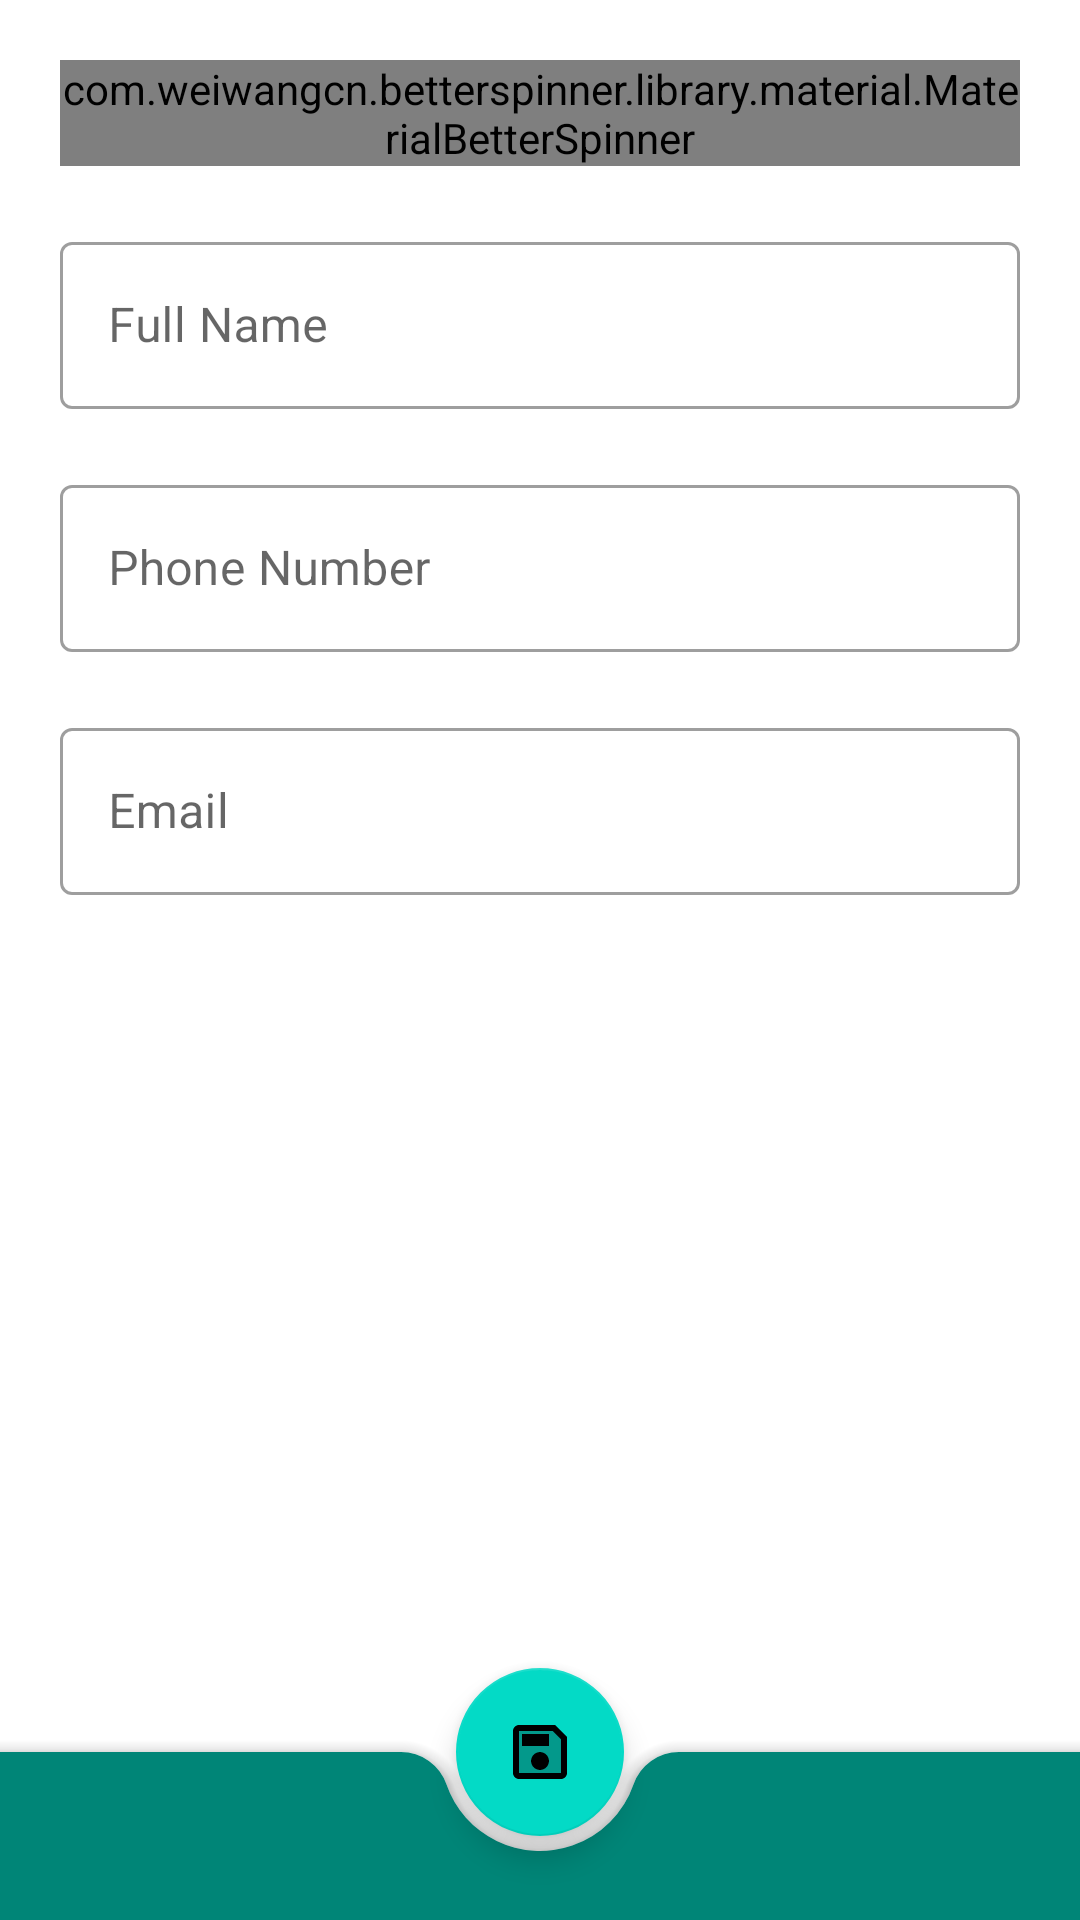

Point at icon controls on the screen. Image size 1080*1920, points as point (x, y).
save: point (540, 1752)
